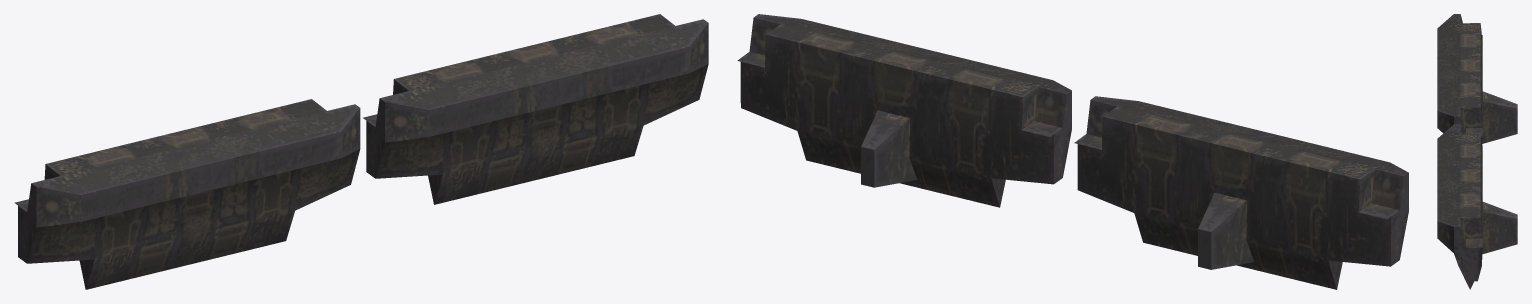
3 renders of one model, left to right at view 1: azimuth 30°, elevation 25°; view 2: azimuth 150°, elevation 25°; view 3: azimuth 270°, elevation 25°, orthographic. The views are drawn at different scales.
Parts seen in each view (by area): view 1: set_0_group_0; view 2: set_0_group_0; view 3: set_0_group_0.
Part boxes in pixels (x1,y1,x2,y2): set_0_group_0: [14, 14, 708, 289]; set_0_group_0: [737, 14, 1408, 289]; set_0_group_0: [1437, 14, 1517, 289].
Size of the model in its own units: 1.02 by 0.1849 by 0.1622.
1 material, 1 textured.
